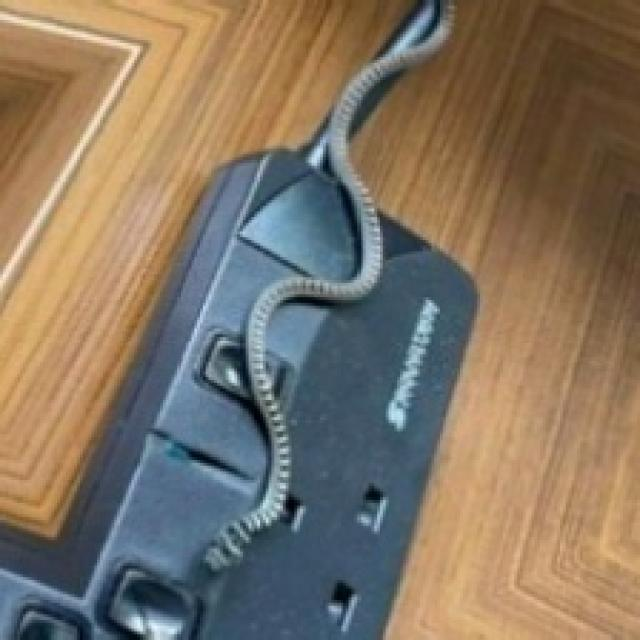paradise tree snake: (0, 0, 411, 534), (203, 0, 451, 569), (0, 29, 123, 266)
